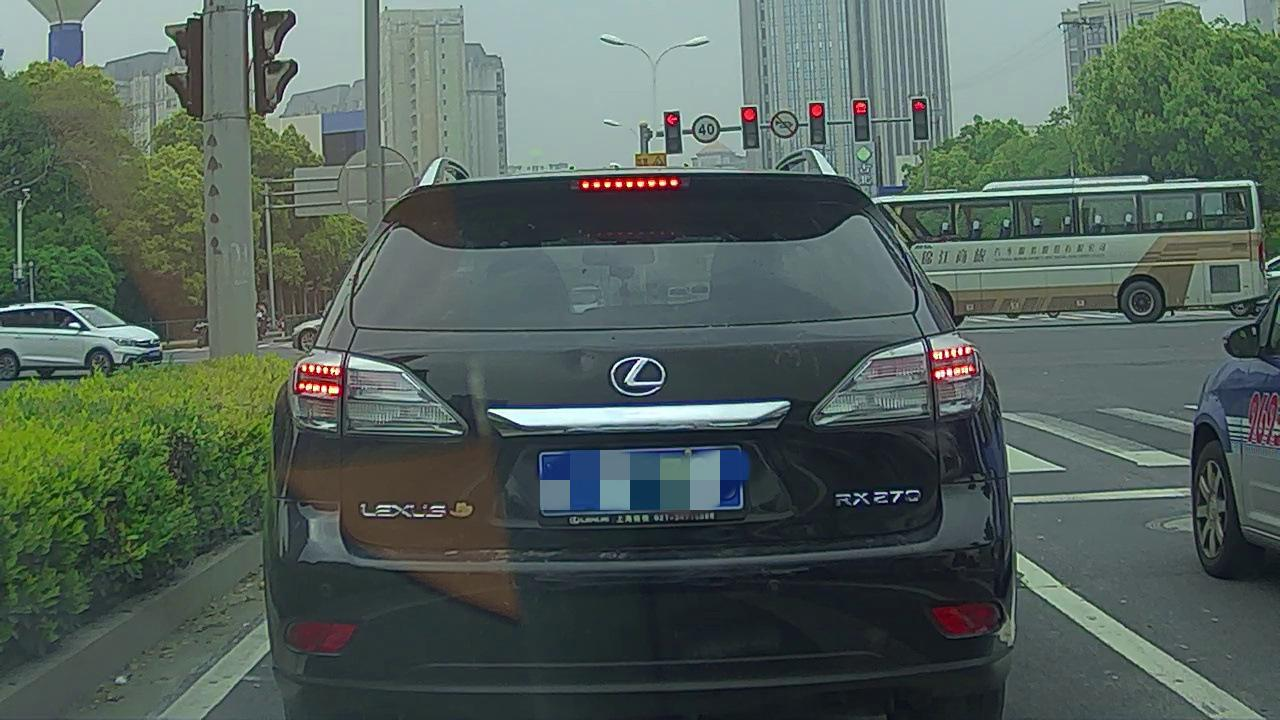traffic_light: (911, 97, 928, 141), (664, 112, 682, 153), (810, 102, 826, 145), (854, 98, 870, 141), (742, 108, 759, 148)
